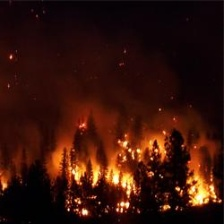fire: (46, 117, 224, 216)
